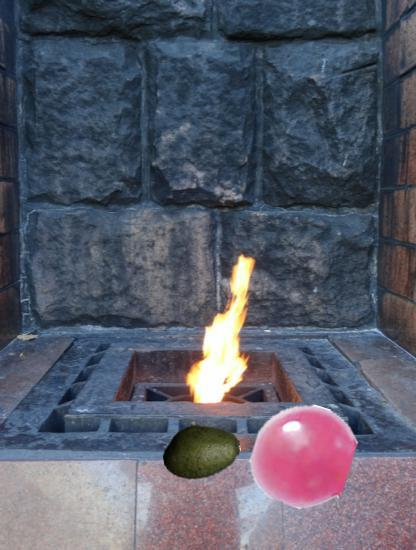Avocado: (162, 410, 241, 489)
Redcurrant: (250, 403, 355, 508)
